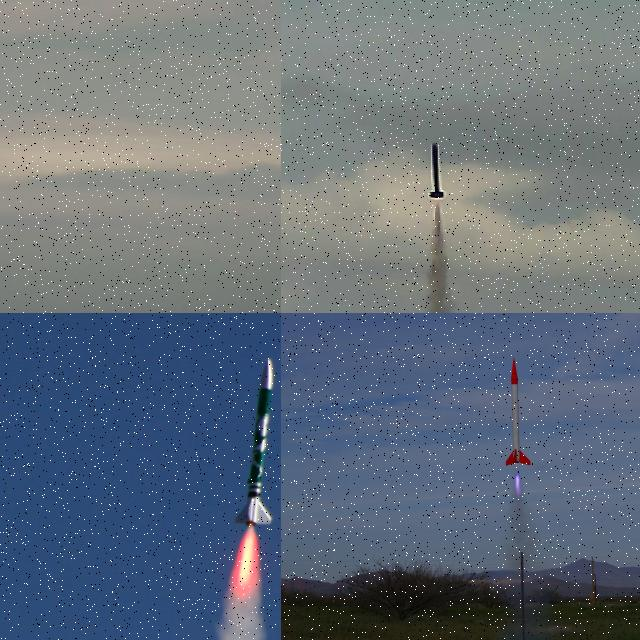Rocket: (232, 357, 276, 527), (504, 357, 532, 466), (428, 142, 445, 198)
